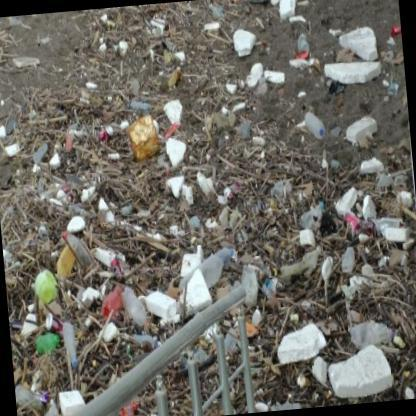Garbage: (20, 266, 61, 375), (128, 98, 164, 152), (96, 277, 128, 324), (252, 184, 284, 228), (58, 328, 90, 370), (288, 30, 320, 70), (122, 290, 156, 324), (57, 114, 82, 157), (294, 108, 324, 139), (162, 63, 190, 88), (214, 242, 240, 266), (260, 270, 284, 292), (100, 116, 122, 137), (260, 275, 280, 296), (342, 207, 362, 224)
